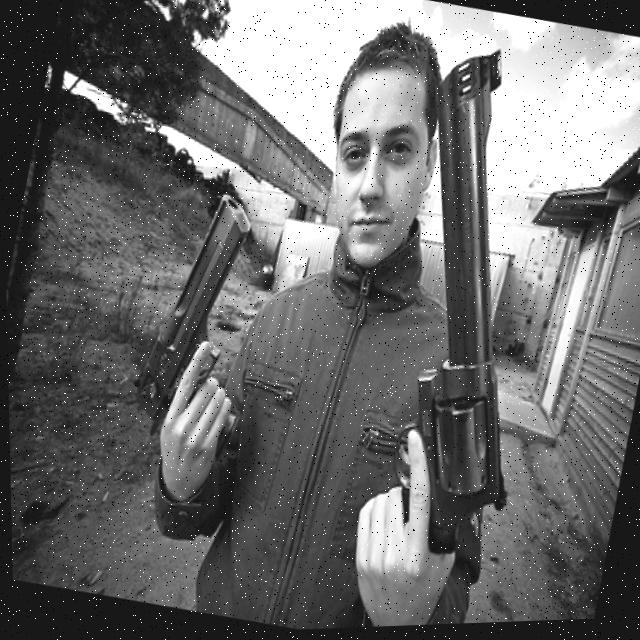pistol: (338, 34, 600, 576), (117, 182, 260, 453)
